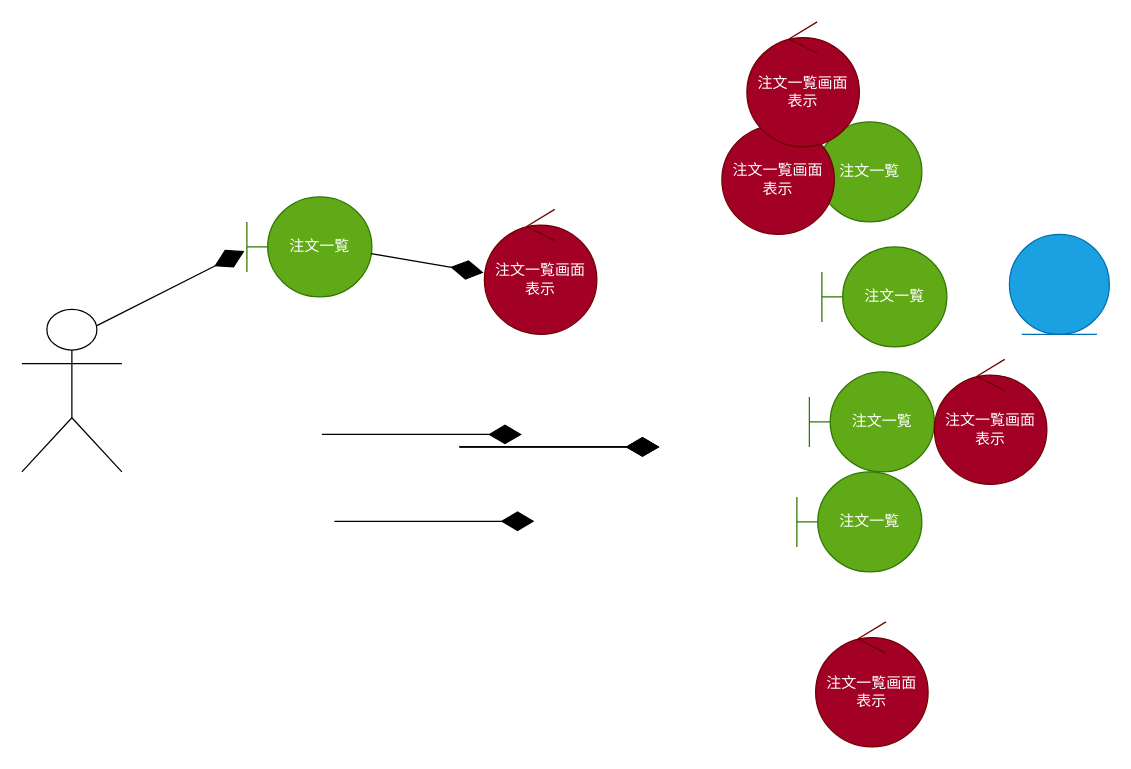
This 1131x769 diagram has some shape labels left out. Here are the shapes that lost their labels. From the top down, the box of each, then its label:
(1008, 233, 1109, 334): 発送管理者
(21, 308, 122, 472): 配送管理者
